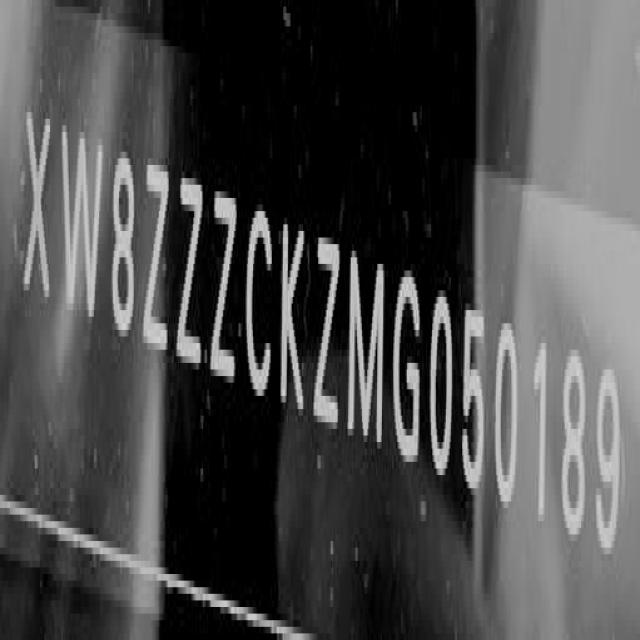0: (428, 280, 456, 487), (496, 311, 522, 517)
1: (532, 327, 549, 531)
5: (463, 290, 489, 498)
8: (560, 341, 586, 550), (113, 150, 137, 346)
9: (596, 357, 623, 562)
C: (246, 194, 275, 406)
G: (394, 266, 424, 472)
K: (280, 208, 308, 425)
M: (346, 242, 386, 456)
W: (58, 114, 102, 329)
X: (21, 100, 53, 312)
Z: (314, 221, 342, 443), (211, 180, 239, 394), (142, 153, 168, 364), (180, 169, 205, 379)
